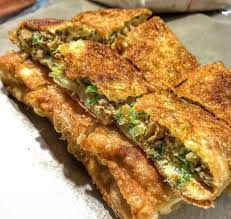Martabak telur: (121, 88, 231, 207), (43, 37, 150, 118), (84, 126, 168, 219), (114, 18, 203, 88), (0, 47, 52, 121), (68, 4, 161, 41), (12, 8, 65, 64)
